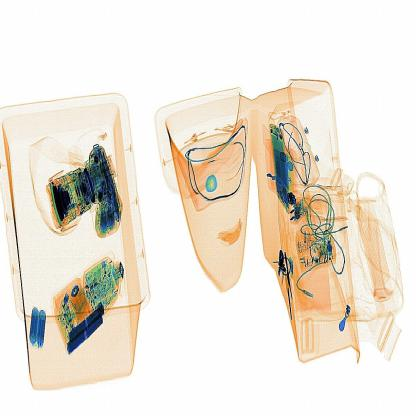scissors: (282, 182, 305, 214)
